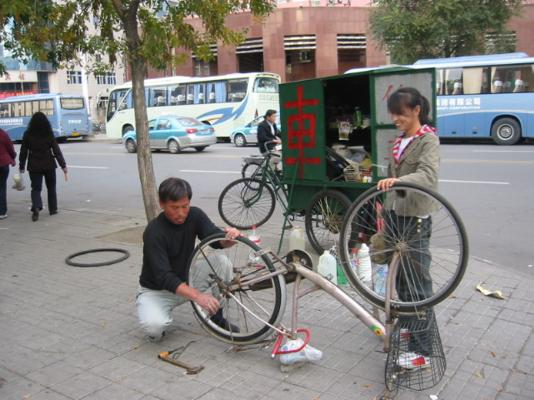person: (138, 178, 243, 342)
